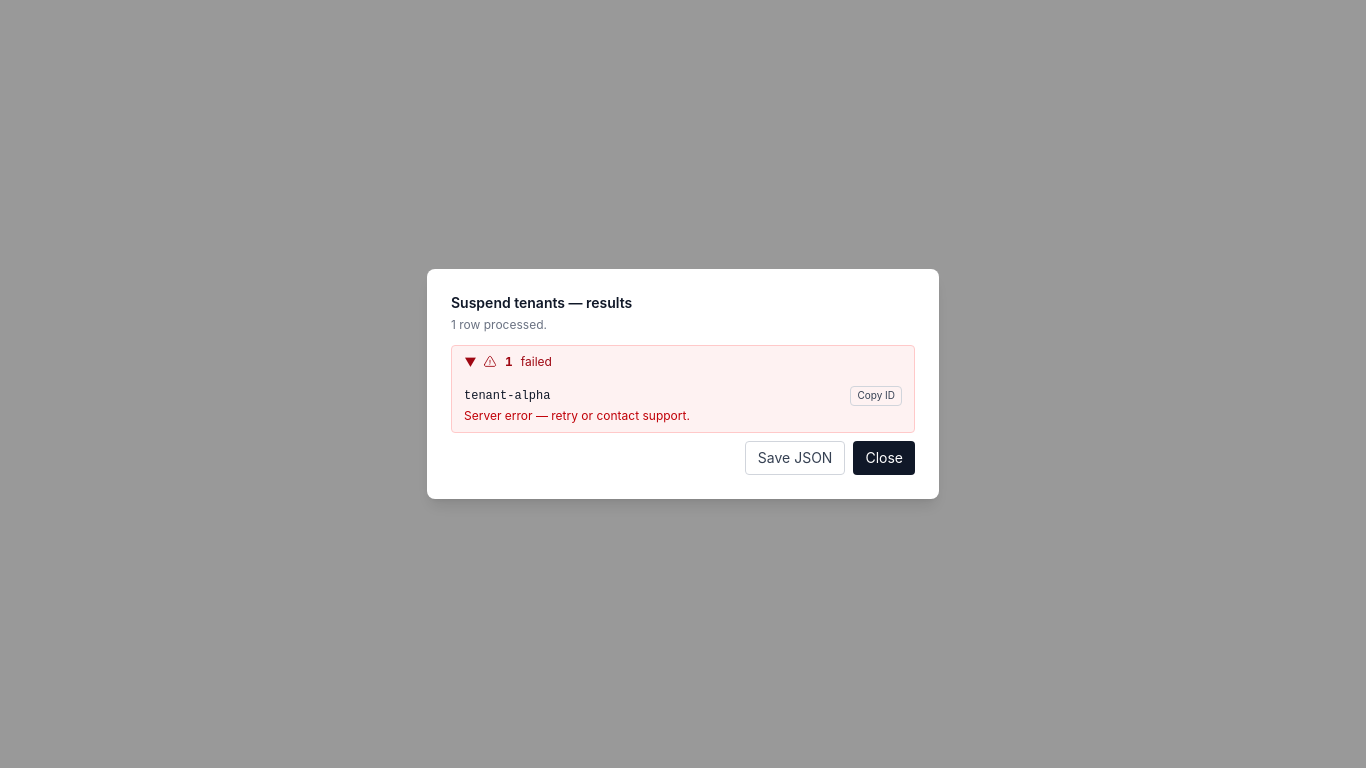
it: BulkActionResultDialog › Copy ID button writes the row id to the clipboard
Step 1. Click the button with aria-label "Copy ID tenant-alpha" → [876, 396], box [850,386,902,406]
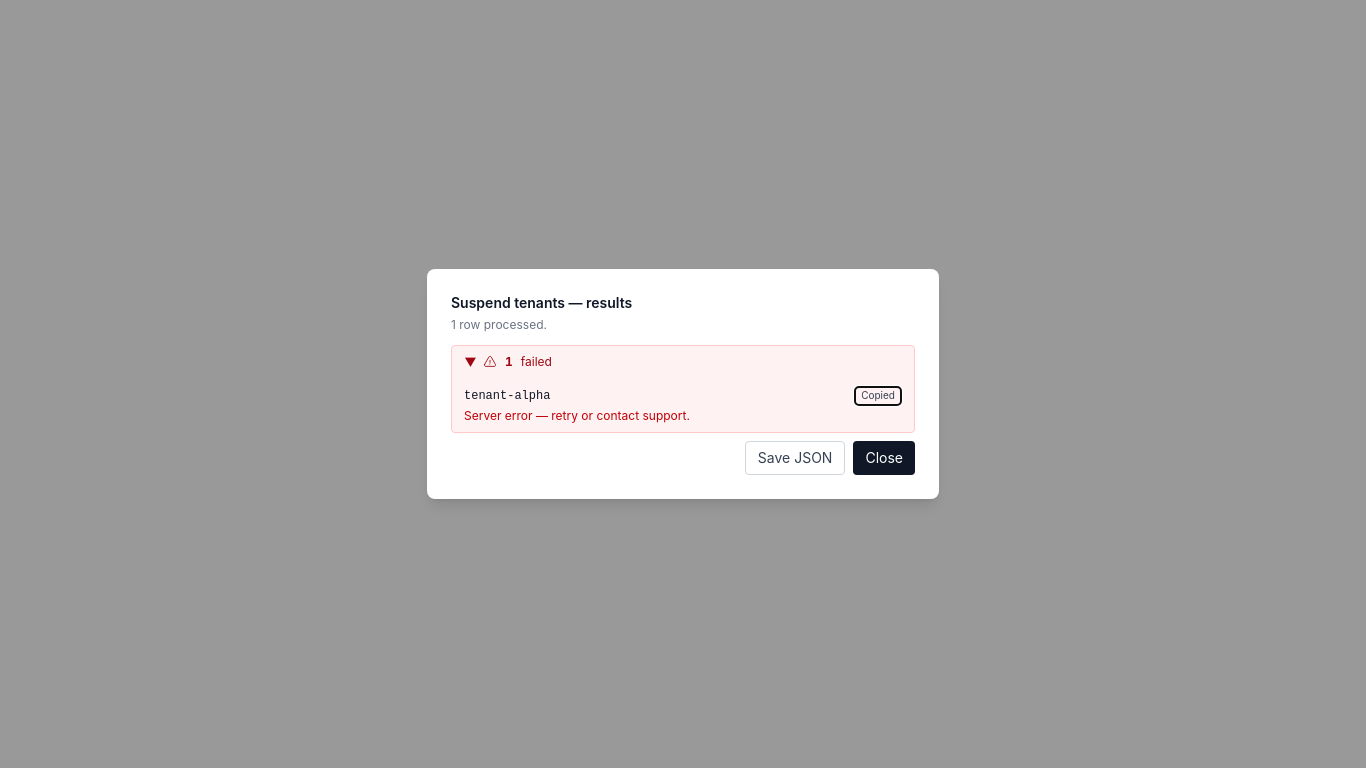
Expected: the button with aria-label "Copy ID tenant-alpha" reads "Copied", [854,386,902,406]
